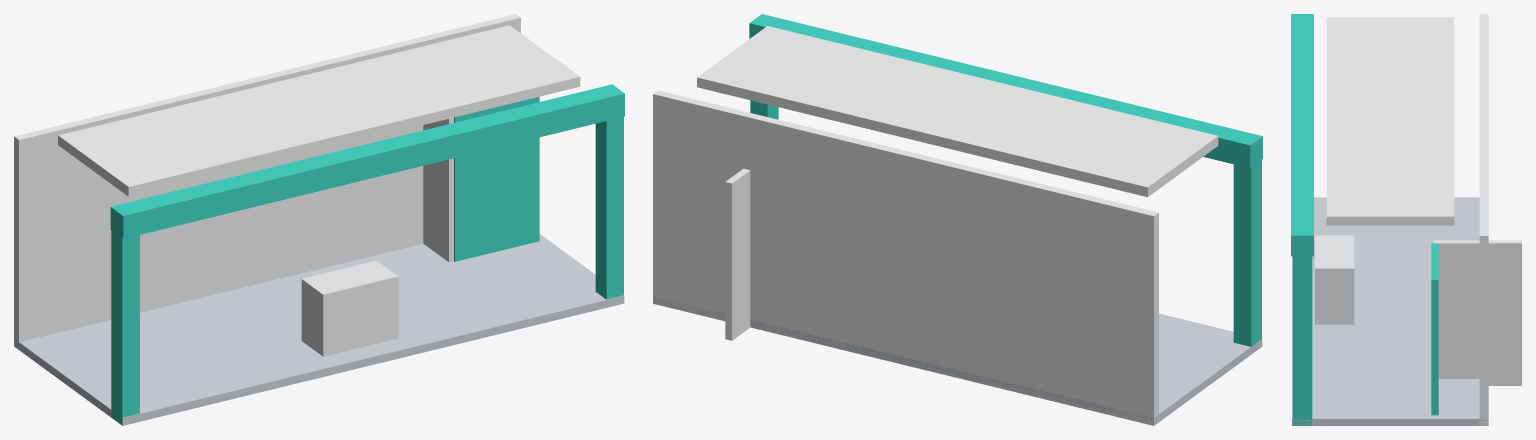
The picture shows the model from 3 angles, left to right: view 1: azimuth 30°, elevation 25°; view 2: azimuth 150°, elevation 25°; view 3: azimuth 270°, elevation 25°; orthographic projection. The views are drawn at different scales.
Parts seen in each view (by area): view 1: Exhibition Booth Concept; view 2: Exhibition Booth Concept; view 3: Exhibition Booth Concept.
Boxes of the visible parts, x1,y1,x2,y2 form: Exhibition Booth Concept: (14,14,624,425); Exhibition Booth Concept: (653,14,1262,425); Exhibition Booth Concept: (1291,14,1521,425).
Bounding box in the file's own units: 8 × 3.34 × 3.52.
